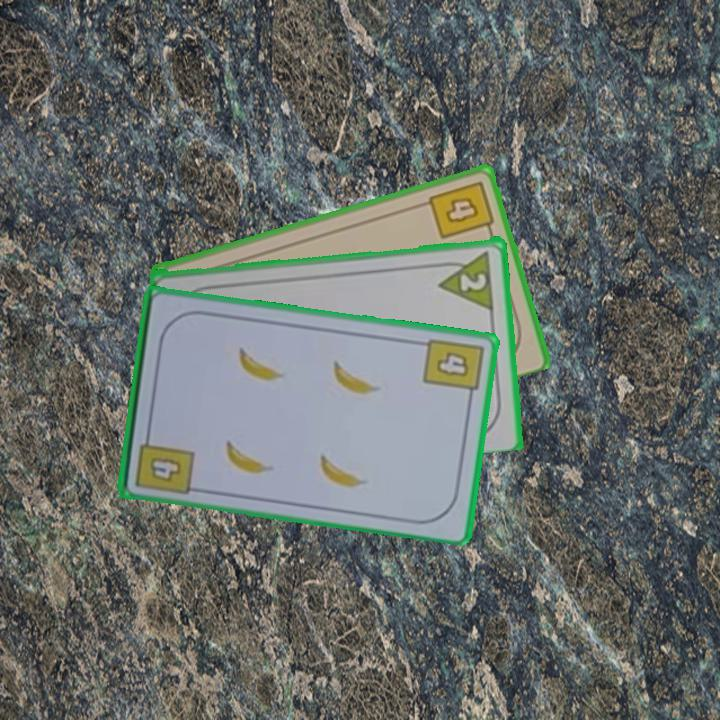2p: (434, 246, 497, 311)
4b: (425, 177, 497, 242), (132, 426, 197, 498), (420, 334, 486, 404)
